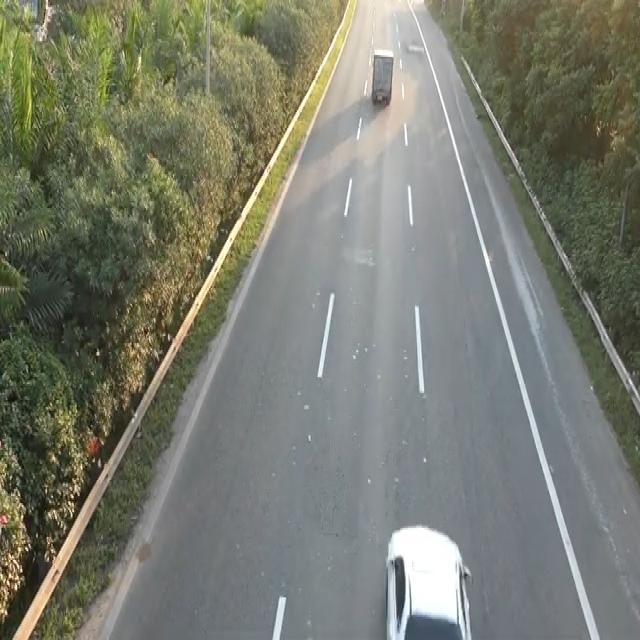bus: (382, 519, 476, 638)
minivan: (369, 46, 395, 107)
